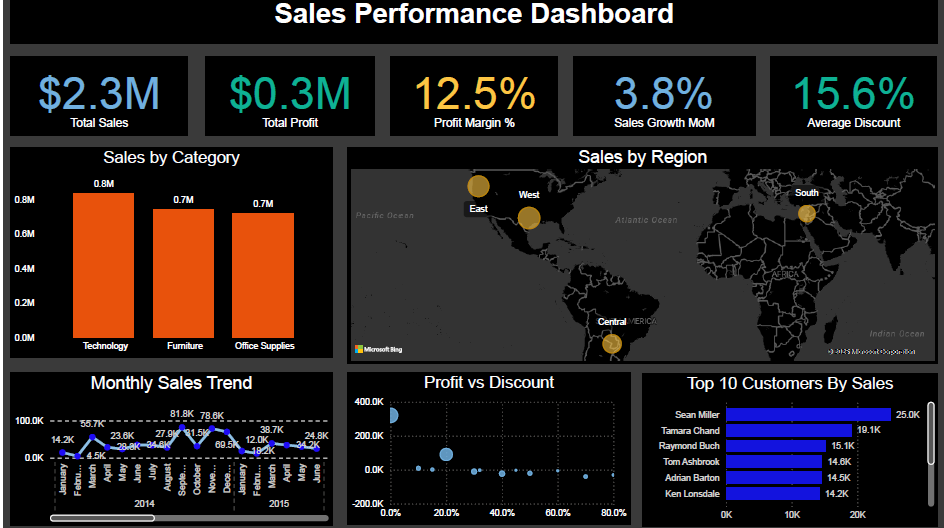

What the dashboard file says about the page in this screenshot:
{"tool":"powerbi","page":{"name":"Page 1","canvas":[1280,720],"ordinal":0},"visuals":[{"type":"card","fields":{"Values":["superstore_cleaned.Total Sales"]},"box":[9.7,84.7,240.3,106.9],"z":0},{"type":"card","fields":{"Values":["superstore_cleaned.Total Profit"]},"box":[273.6,84.7,229.2,106.9],"z":1000},{"type":"card","fields":{"Values":["superstore_cleaned.Profit Margin %"]},"box":[525,84.7,226.4,106.9],"z":2000},{"type":"card","fields":{"Values":["superstore_cleaned.Sales Growth MoM"]},"box":[772.2,84.7,247.2,106.9],"z":3000},{"type":"card","fields":{"Values":["superstore_cleaned.Average Discount"]},"box":[1040.3,84.7,226.4,106.9],"z":4000},{"type":"textbox","box":[9.7,0,1256.9,66.7],"z":5000},{"type":"clusteredColumnChart","title":"Sales by Category","fields":{"Category":["superstore_cleaned.Category"],"Y":["Sum(superstore_cleaned.Sales)"]},"box":[9.7,206.9,436.1,286.1],"z":6000},{"type":"map","title":" Sales by Region","fields":{"Category":["superstore_cleaned.Region"],"Size":["Sum(superstore_cleaned.Sales)"]},"box":[466.7,206.9,800,294.4],"z":7000},{"type":"scatterChart","title":"Profit vs Discount","fields":{"X":["superstore_cleaned.Discount"],"Y":["Sum(superstore_cleaned.Profit)"],"Size":["Sum(superstore_cleaned.Sales)"]},"box":[466.7,512.5,383.3,205.6],"z":8000},{"type":"barChart","title":"Top 10 Customers By Sales","fields":{"Category":["superstore_cleaned.Customer Name"],"Y":["Sum(superstore_cleaned.Sales)"]},"box":[866.7,513.9,400,206.9],"z":9000},{"type":"lineChart","title":"Monthly Sales Trend","fields":{"Y":["Sum(superstore_cleaned.Sales)"],"Category":["superstore_cleaned.Order Date.Variation.Date Hierarchy.Year","superstore_cleaned.Order Date.Variation.Date Hierarchy.Month"]},"box":[9.7,512.5,436.1,206.9],"z":10000}]}

Visuals, with their boxes in screenshot pixels (x1, y1, x2, y2), scaled from the page's 1280x720 canvas onto the 944x528 screenshot:
card - superstore_cleaned.Total Sales: bbox=(7, 62, 184, 141)
card - superstore_cleaned.Total Profit: bbox=(202, 62, 371, 141)
card - superstore_cleaned.Profit Margin %: bbox=(387, 62, 554, 141)
card - superstore_cleaned.Sales Growth MoM: bbox=(569, 62, 752, 141)
card - superstore_cleaned.Average Discount: bbox=(767, 62, 934, 141)
textbox: bbox=(7, 0, 934, 49)
"Sales by Category" clusteredColumnChart: bbox=(7, 152, 329, 362)
" Sales by Region" map: bbox=(344, 152, 934, 368)
"Profit vs Discount" scatterChart: bbox=(344, 376, 627, 527)
"Top 10 Customers By Sales" barChart: bbox=(639, 377, 934, 527)
"Monthly Sales Trend" lineChart: bbox=(7, 376, 329, 527)
